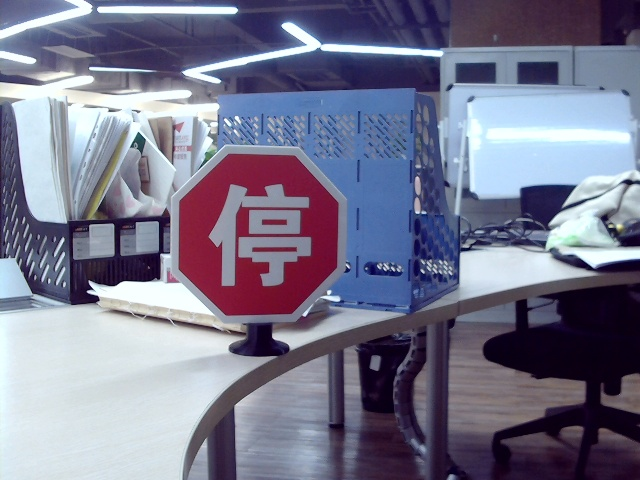stop: (201, 175, 313, 285)
